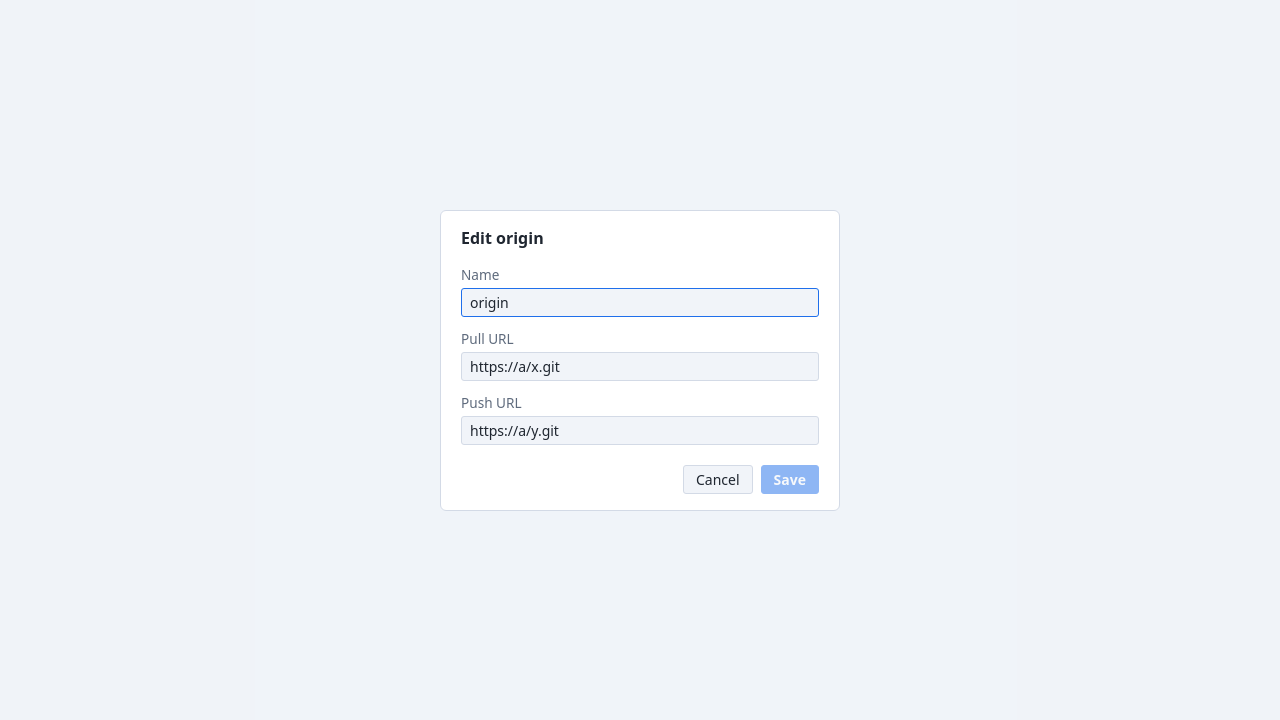
Scenario: EditRemoteDialog › blocks URLs with redacted credentials
The image size is (1280, 720).
Replace the text in the field labelled "Push URL" with "https://***@host/x.git" at (640, 430), box 461,416 -> 819,444
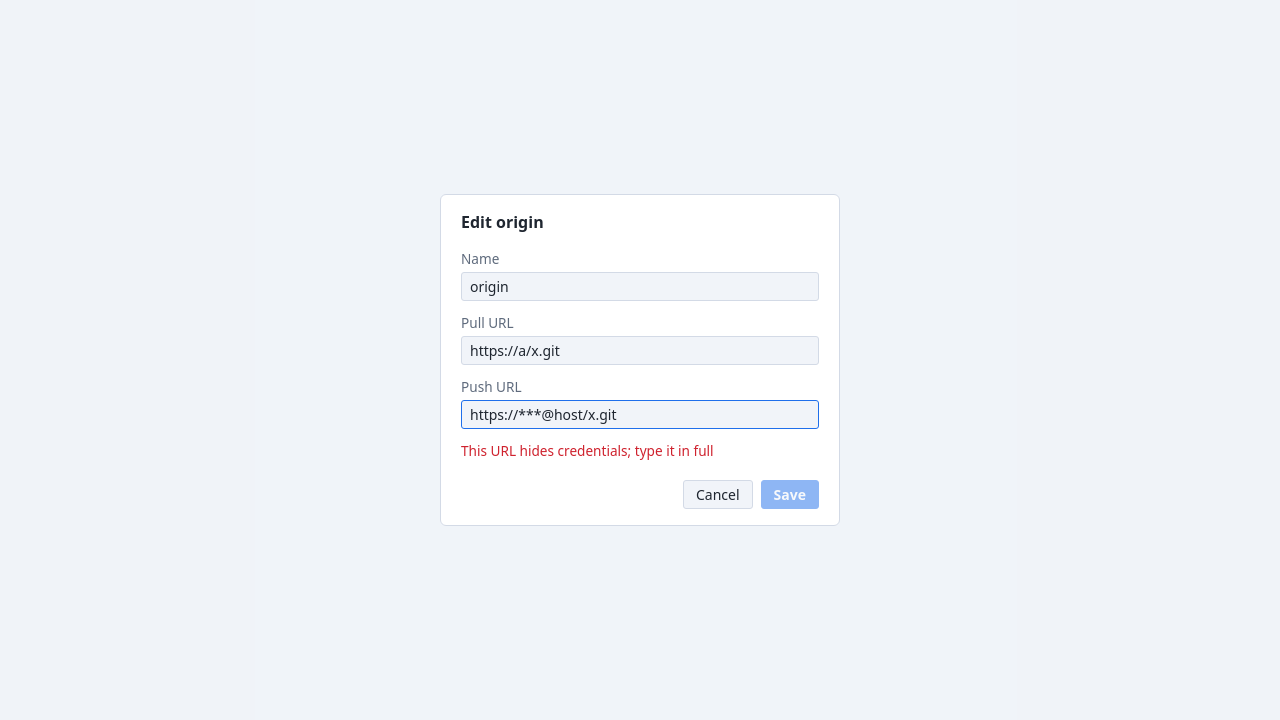
Expected: the text "This URL hides credentials; type it in full" is shown, 461,441 -> 714,460
Expected: the button "Save" is disabled, 761,480 -> 819,509
